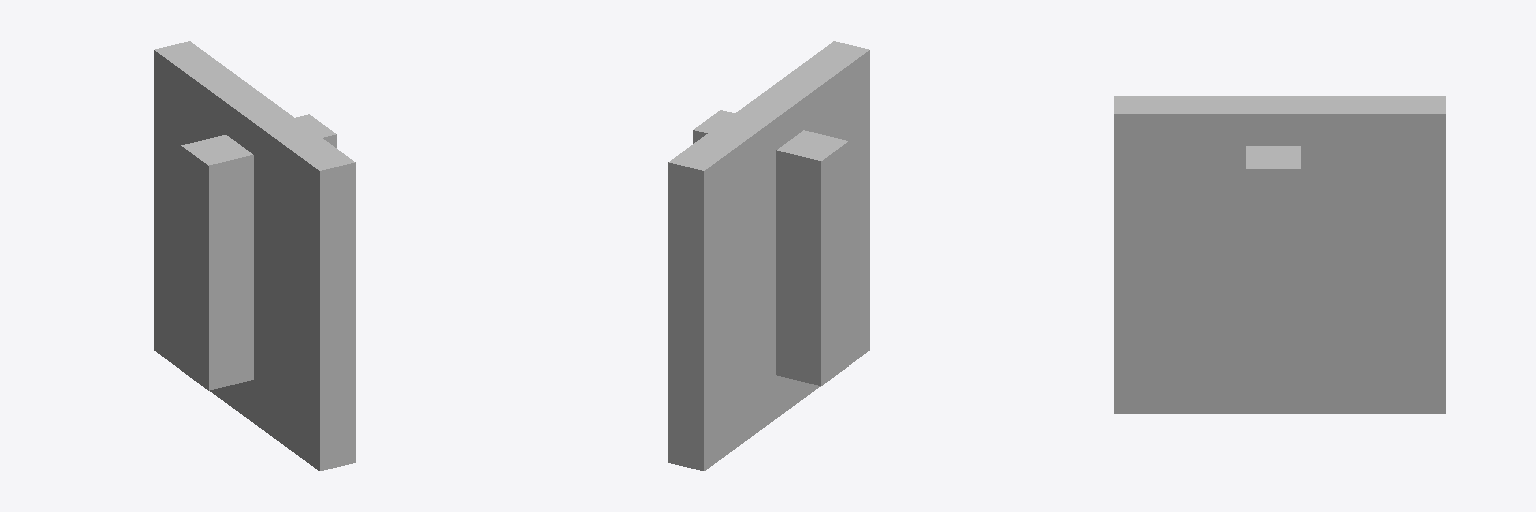
The model's file is letter_I.obj.
The picture shows the model from 3 angles: view 1: azimuth 30°, elevation 25°; view 2: azimuth 150°, elevation 25°; view 3: azimuth 270°, elevation 25°; orthographic projection.
Visible parts, largest first — view 1: window, Text; view 2: window, Text; view 3: window, Text.
Boxes of the visible parts, x1=… form: window: x1=154, y1=41, x2=355, y2=470; Text: x1=181, y1=114, x2=336, y2=390; window: x1=668, y1=41, x2=869, y2=470; Text: x1=693, y1=110, x2=848, y2=385; window: x1=1114, y1=96, x2=1445, y2=413; Text: x1=1246, y1=146, x2=1300, y2=393.
Size of the model in its own units: 0.894 by 2 by 2.